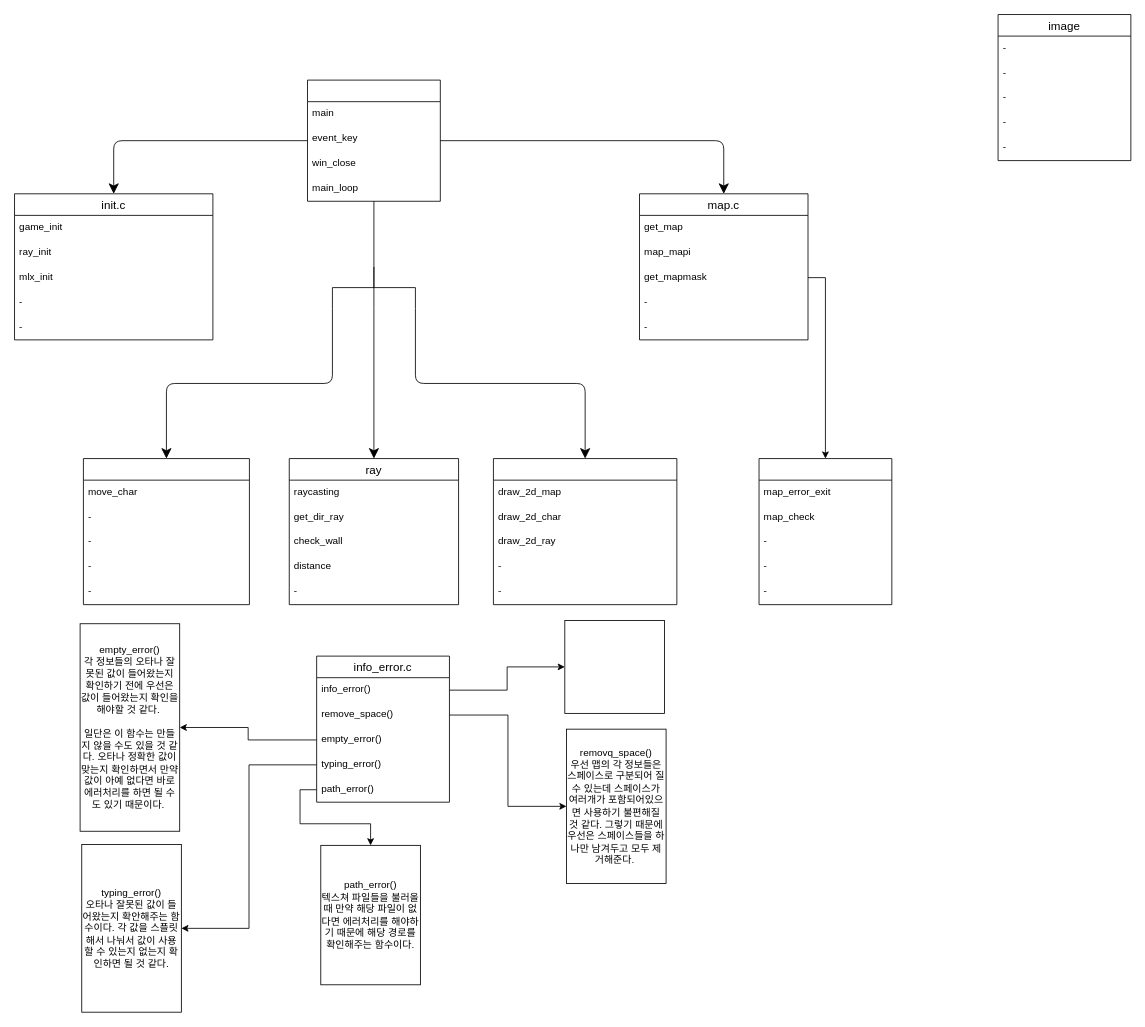
This 1145x1027 diagram has some shape labels left out. Each missing label, with the box of its shape:
2d_image.c: (493, 458, 677, 605)
error.c: (758, 458, 892, 605)
info_error() 인포 에러는 맵 정보에 대한 에러들을 종합적으로 실행시켜주는 함수로 만들 것이다.: (564, 620, 664, 713)
main.c: (307, 79, 440, 201)
util.c: (83, 458, 249, 605)
